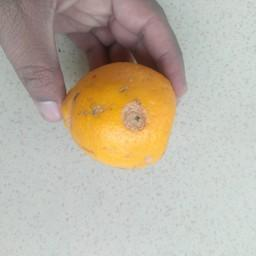Bad_orange: (57, 59, 179, 171)
